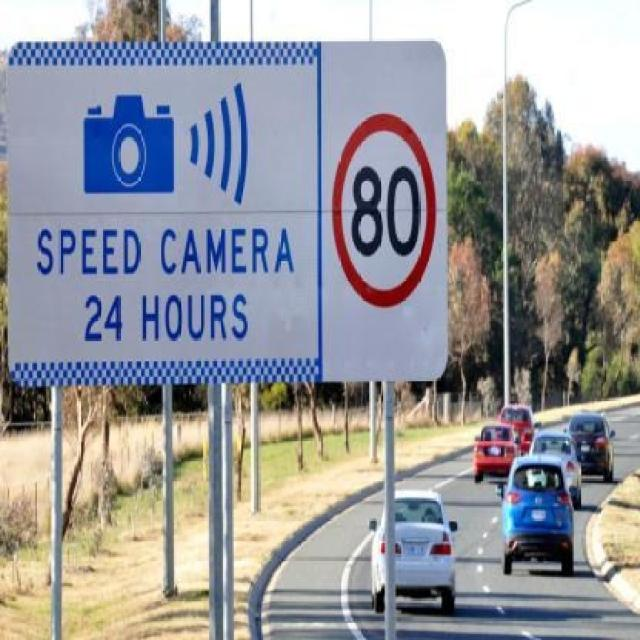forb_speed_over_80: (336, 113, 436, 302)
